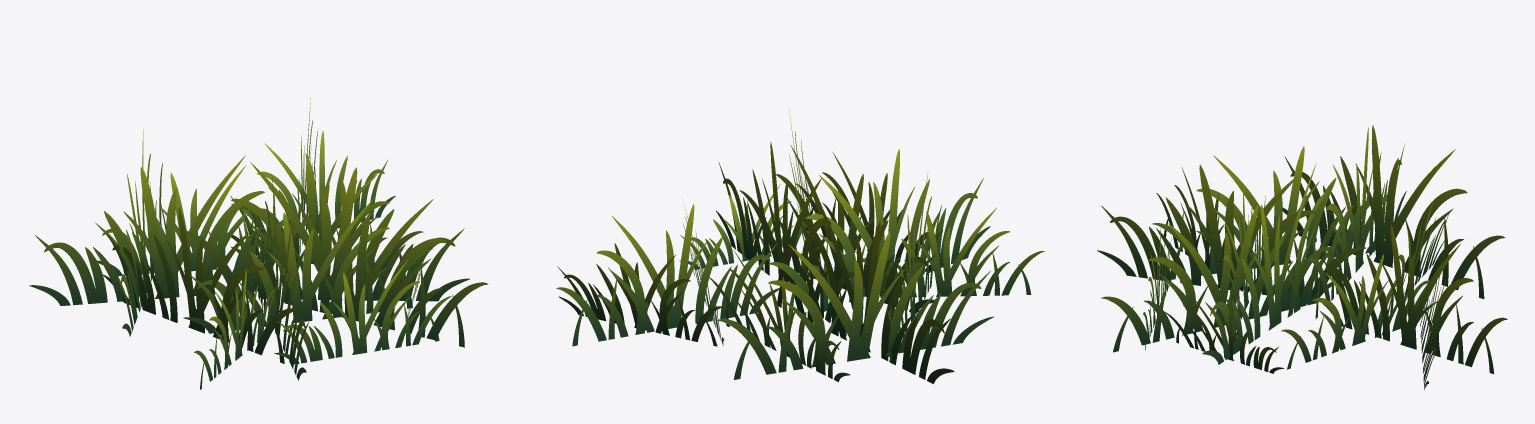
Rendered from mid_grass_04.gltf.
The picture shows the model from 3 angles, left to right: view 1: azimuth 30°, elevation 25°; view 2: azimuth 150°, elevation 25°; view 3: azimuth 270°, elevation 25°; orthographic projection. The views are drawn at different scales.
Visible parts, largest first — view 1: default; view 2: default; view 3: default.
Boxes of the visible parts, box(x1,y1,x2,y2) form: default: box(29, 98, 487, 389); default: box(556, 109, 1044, 384); default: box(1097, 125, 1507, 389).
Bounding box in the file's own units: 1.16 × 0.5771 × 1.13.
1 material, 1 textured.
